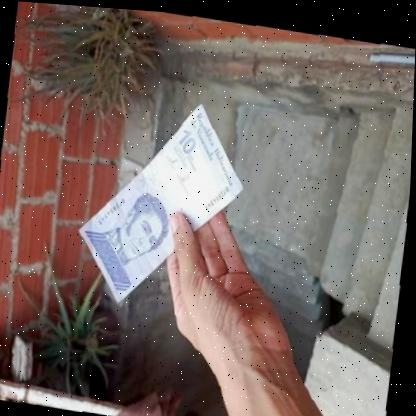ten-front-vef: (72, 84, 253, 318)
